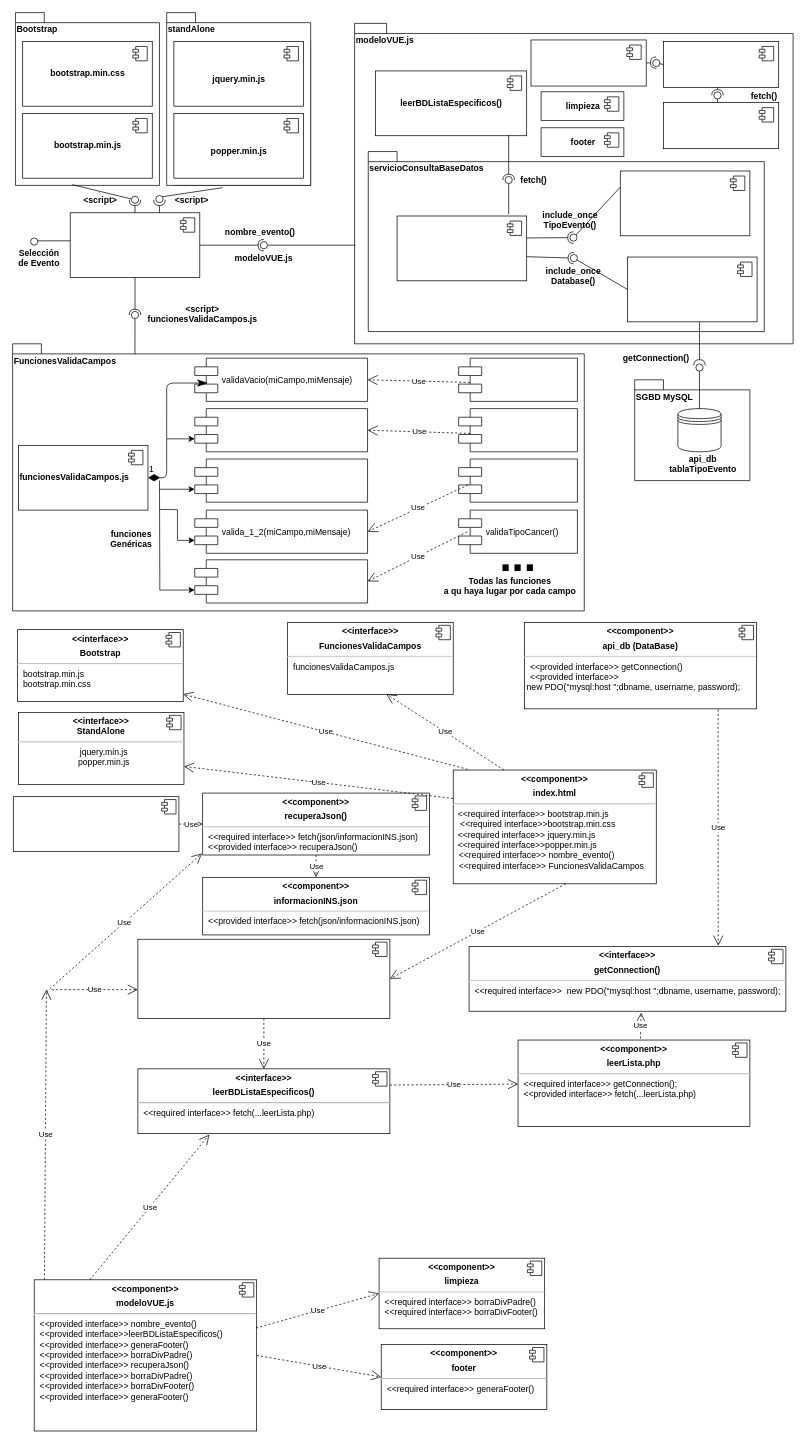
Image size: 806x1444. Some labels were removed from this diagram. The centre of each missing label's shape, as x and y in pixels:
"<<component>> Created() <<required interface>> recuperaJson()" belongs at pixel 96 823.
"<<interface>> nombreEvento() <<required interface>>leerBDListaEspecificos()" belongs at pixel 263 978.
"created()" belongs at pixel 588 62.
"database.php" belongs at pixel 692 289.
"index.html" belongs at pixel 134 245.
"informacionINS.json" belongs at pixel 721 125.
"recuperaJson()" belongs at pixel 721 64.
"tipoEventoLista.php" belongs at pixel 685 203.
"valida_1_3(miCampo,miMensaje)" belongs at pixel 281 581.
"valida_si_no(miCampo)" belongs at pixel 281 480.
"validaFechaProCo()" belongs at pixel 517 430.
"validaFechaSuperior(miCampo)" belongs at pixel 281 430.
"validaGradHisto()" belongs at pixel 517 379.
"validaResultBiopsia()" belongs at pixel 517 480.
"«servicio» leerLista.php" belongs at pixel 461 248.
